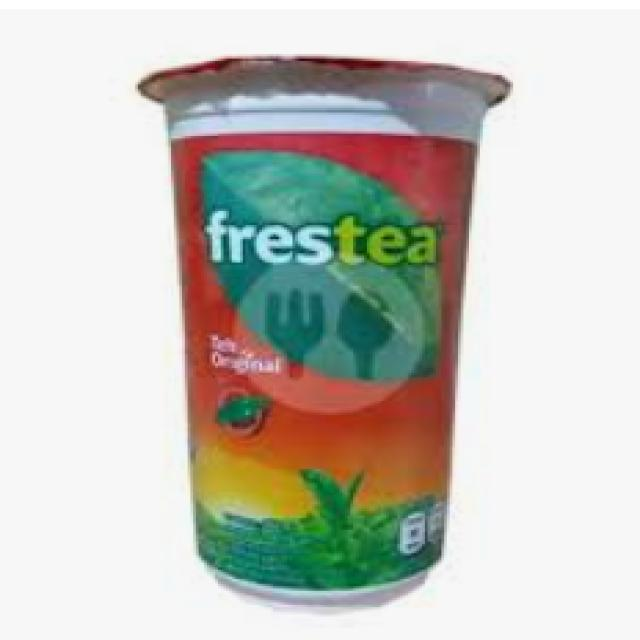GelasPlastik: (135, 51, 513, 605)
